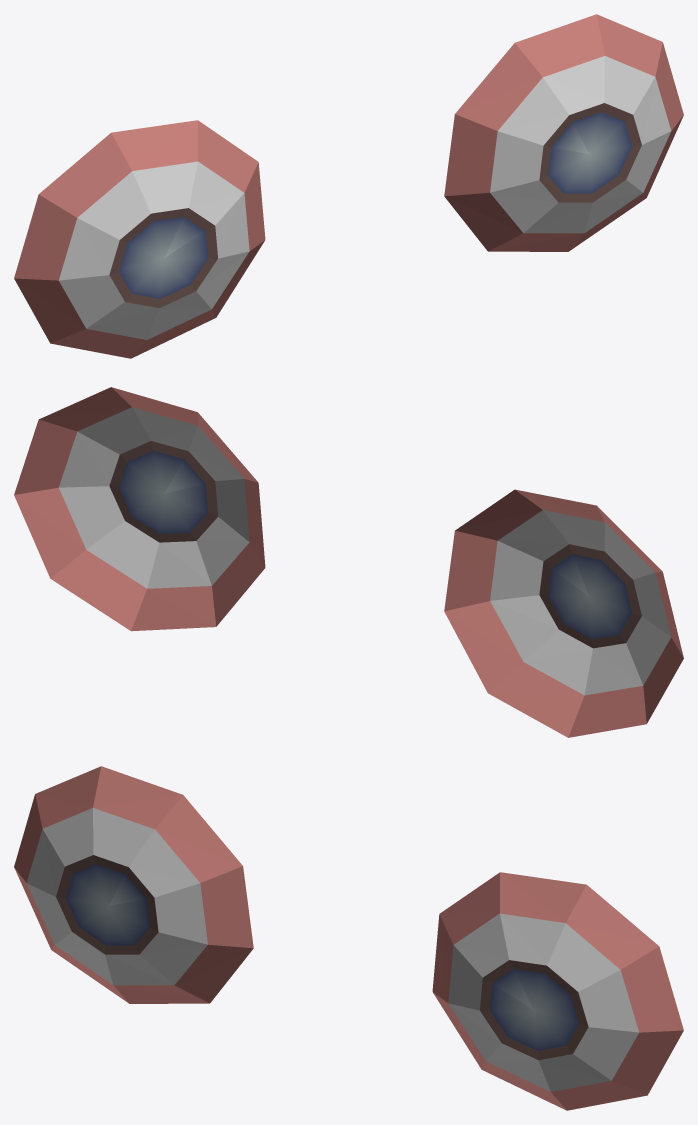
The model's file is eyesBlind.glb.
3 renders of one model, top to bottom at view 1: azimuth 30°, elevation 25°; view 2: azimuth 150°, elevation 25°; view 3: azimuth 330°, elevation 25°, orthographic.
Parts seen in each view (by area): view 1: eyesBlind; view 2: eyesBlind; view 3: eyesBlind.
Boxes of the visible parts, left/top/right/bottom form: eyesBlind: left=14, top=14, right=683, bottom=358; eyesBlind: left=14, top=387, right=683, bottom=737; eyesBlind: left=14, top=766, right=683, bottom=1110.
Size of the model in its own units: 0.1488 by 0.0499 by 0.0119.
